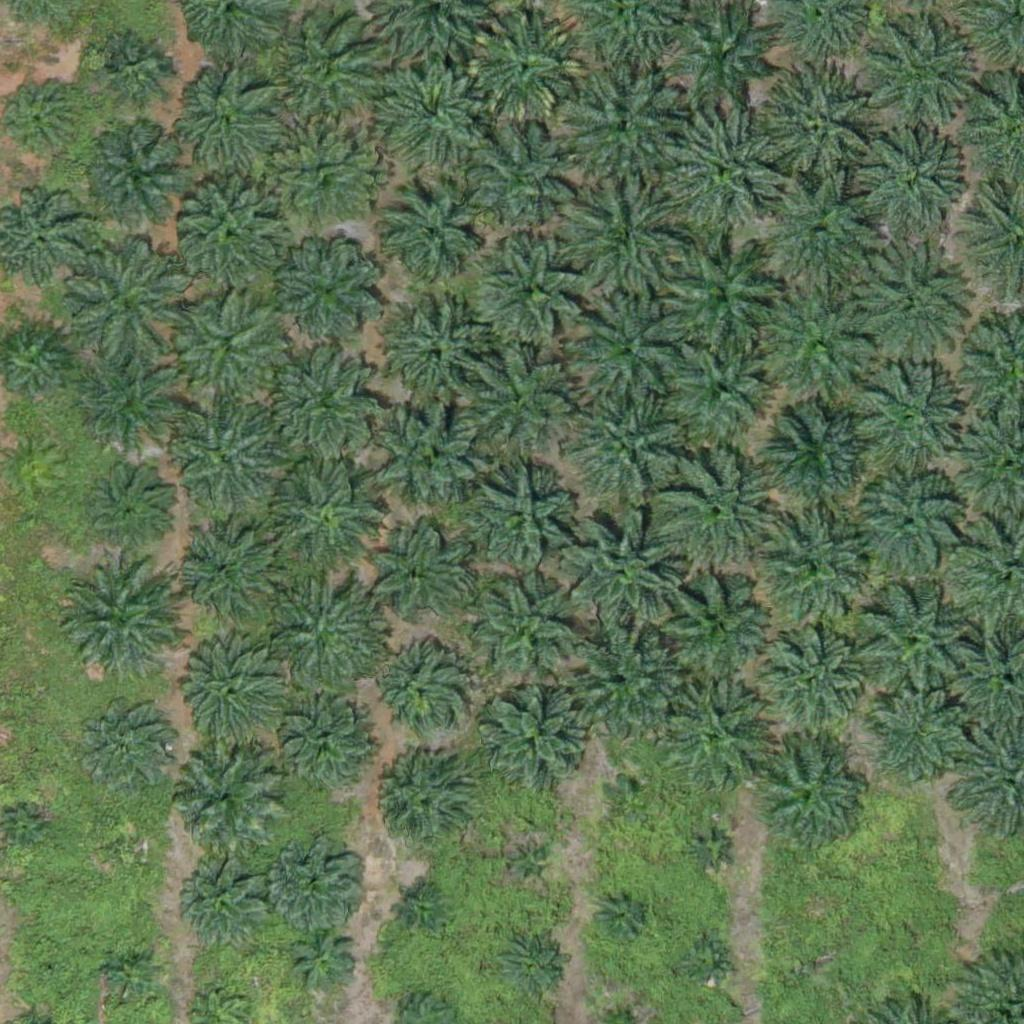Kelapa_Sawit: (751, 62, 876, 188), (759, 173, 884, 299), (655, 108, 780, 234), (561, 63, 686, 189), (551, 178, 676, 304), (61, 237, 186, 363), (54, 557, 179, 683), (464, 571, 589, 697), (567, 286, 692, 412), (565, 380, 690, 506), (560, 515, 685, 641), (560, 630, 685, 756), (657, 225, 782, 351), (661, 324, 786, 450), (657, 445, 782, 571), (647, 558, 772, 684), (749, 280, 874, 406), (843, 362, 968, 488), (846, 239, 971, 365), (848, 582, 973, 708), (266, 572, 391, 697), (749, 619, 862, 733), (761, 512, 874, 626), (862, 681, 975, 795), (270, 13, 383, 126), (264, 119, 377, 232), (176, 180, 289, 293), (166, 64, 279, 177), (274, 230, 387, 343), (382, 300, 495, 413), (165, 740, 278, 853), (269, 345, 382, 458), (269, 458, 382, 571), (367, 396, 480, 509), (481, 686, 594, 799), (753, 738, 866, 851), (764, 400, 877, 513), (461, 347, 573, 461), (850, 123, 962, 236), (866, 17, 978, 130), (469, 9, 581, 122), (468, 125, 580, 238), (375, 178, 487, 291), (375, 54, 487, 167), (476, 234, 588, 347), (174, 296, 286, 409), (75, 347, 187, 460), (170, 403, 282, 516), (172, 636, 284, 749), (463, 460, 575, 573), (660, 686, 772, 799), (854, 470, 966, 583), (86, 129, 186, 230), (75, 696, 175, 797), (178, 524, 278, 625), (276, 696, 376, 797), (366, 524, 466, 625), (368, 641, 468, 742), (366, 754, 466, 855), (271, 831, 371, 932), (673, 2, 773, 102), (87, 461, 174, 549), (184, 864, 271, 952), (98, 33, 173, 108), (99, 944, 162, 1007), (501, 935, 563, 998), (292, 926, 354, 989), (596, 887, 646, 937), (685, 824, 735, 874), (681, 935, 731, 985), (501, 839, 551, 889), (604, 770, 654, 820), (403, 893, 441, 930), (111, 831, 149, 868), (7, 811, 44, 849), (38, 961, 63, 986)
